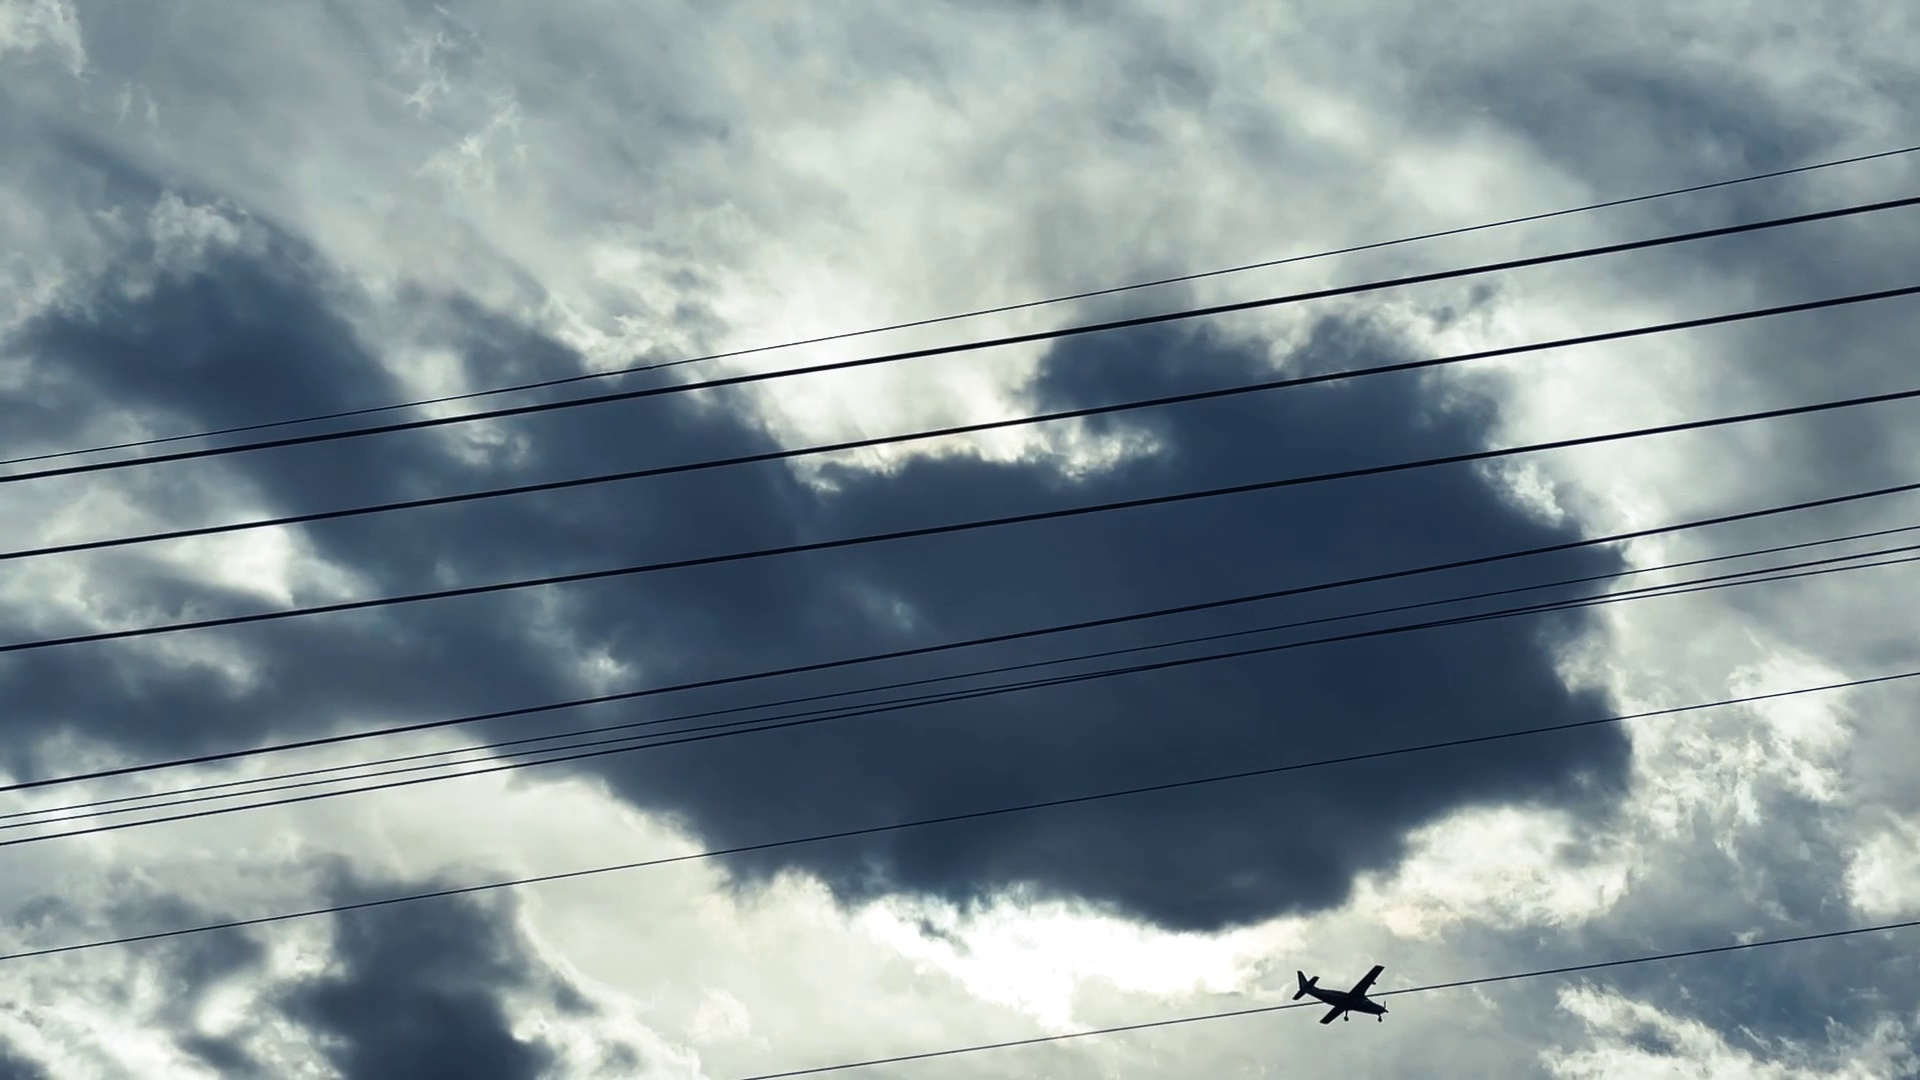plane: (1294, 963, 1387, 1022)
